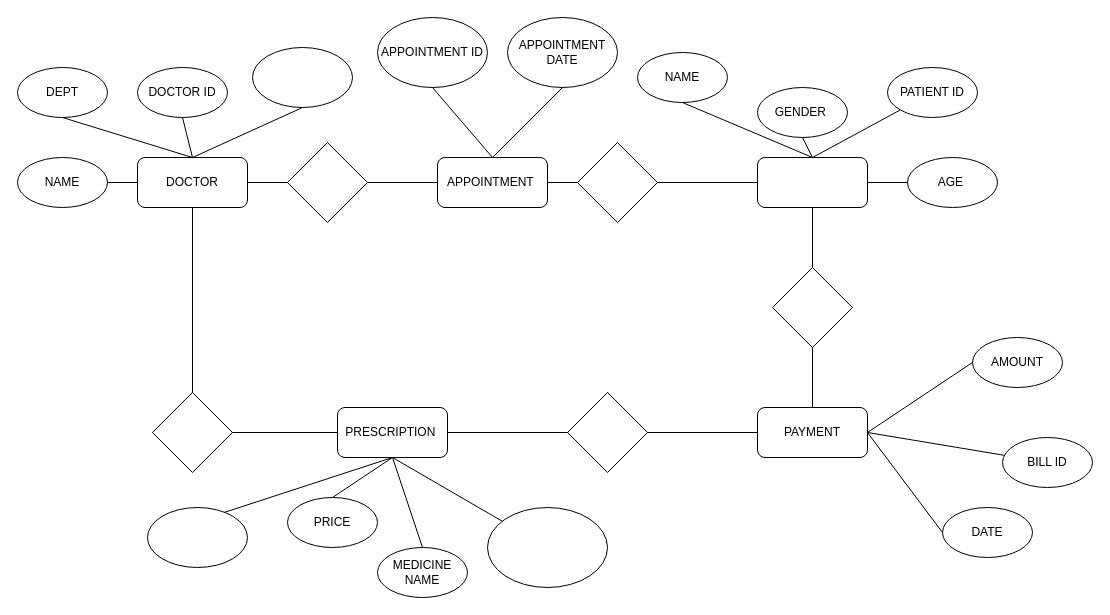
Some shapes in this 1110 by 615 pixel diagram are drawn without their labels. Here are the shapes that lost their labels. From the top down, the centre of each, then its label:
At (302,77): "QUALIFICATION".
At (327,182): "CANCEL / CONFIRM".
At (617,182): "REQUEST".
At (812,182): "PATIENT".
At (812,307): "PAY".
At (192,432): "PROVIDE".
At (607,432): "GIVE".
At (197,537): "MEDICINE QUANTITY".
At (547,547): "PRESCRIPTION ID".
